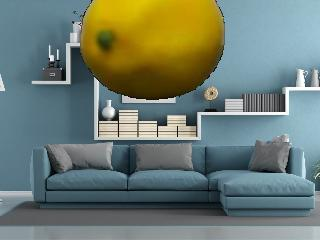lemon: (81, 0, 225, 100)
